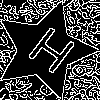H: (19, 25, 79, 83)
